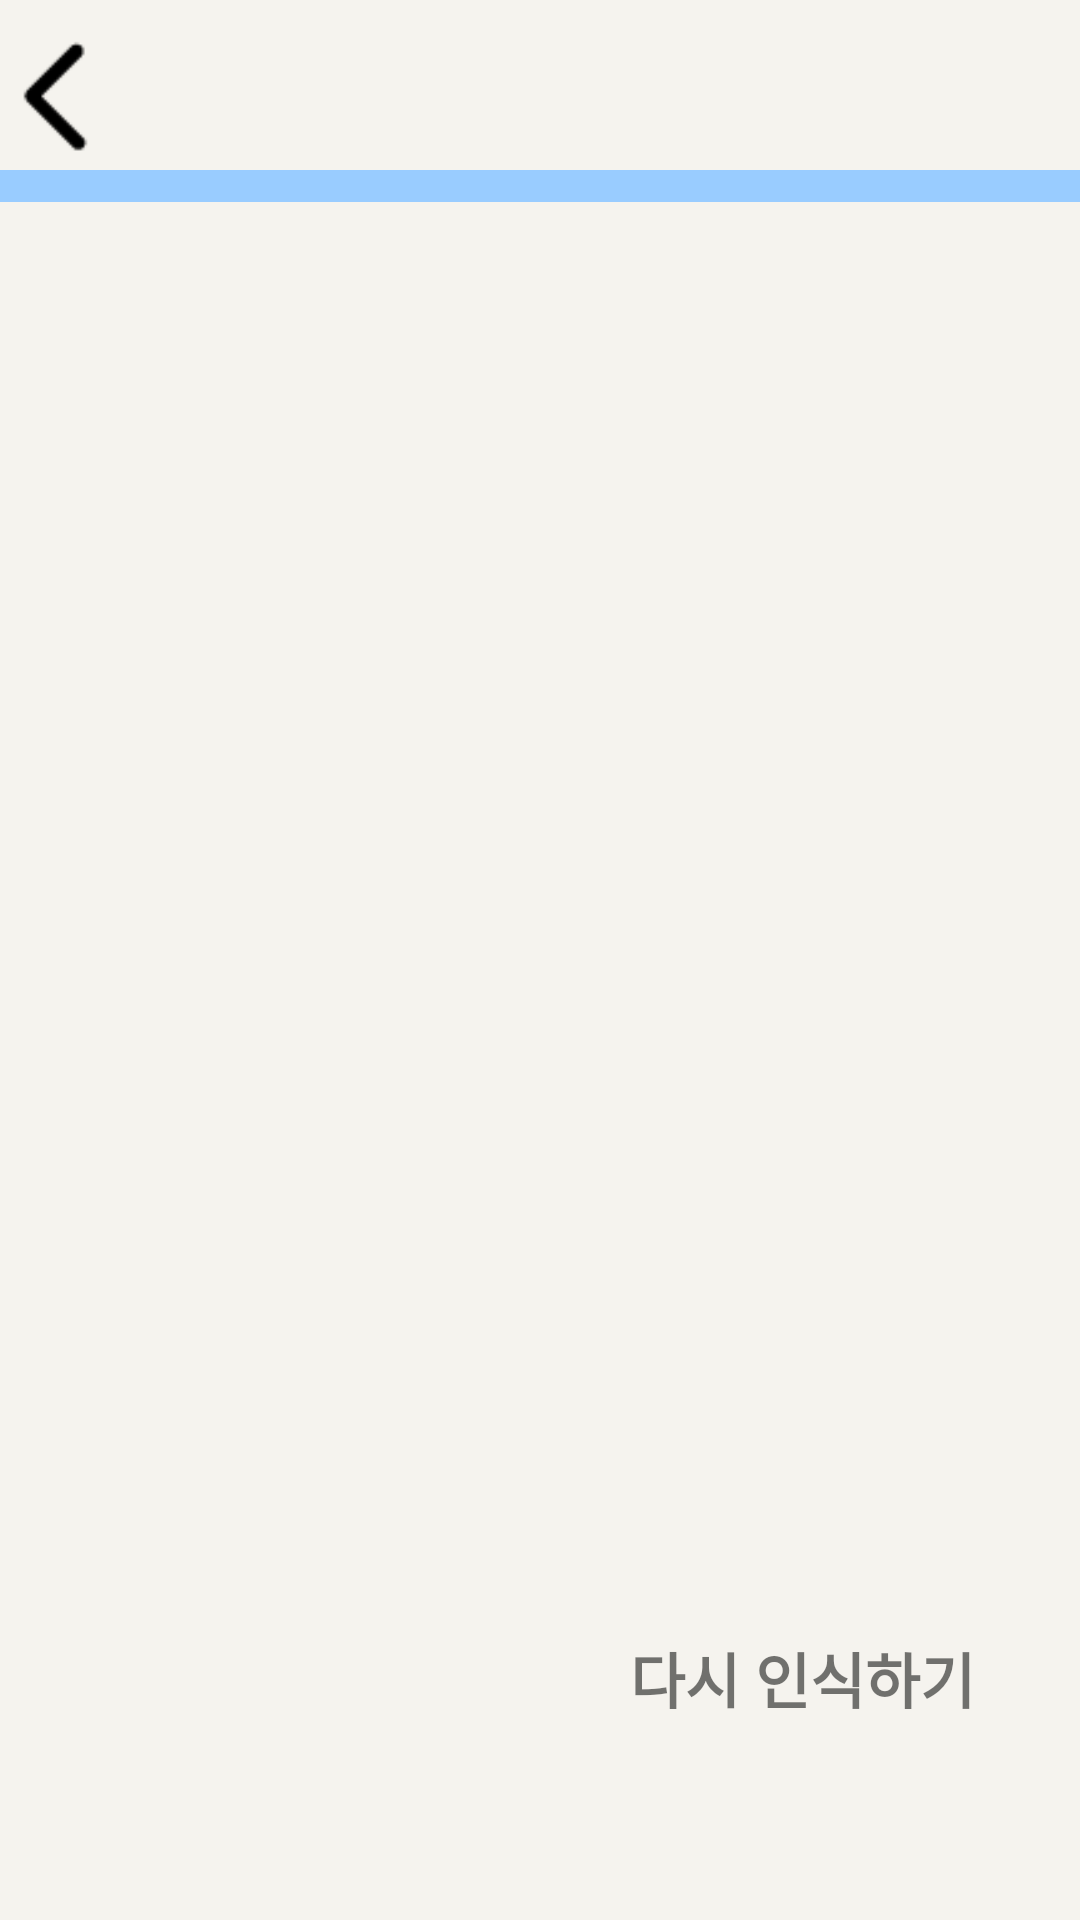

Where icons sit on this 1080 x 1920 app screen, as (x1, y1, x2, y2):
back: (23, 42, 87, 151)
